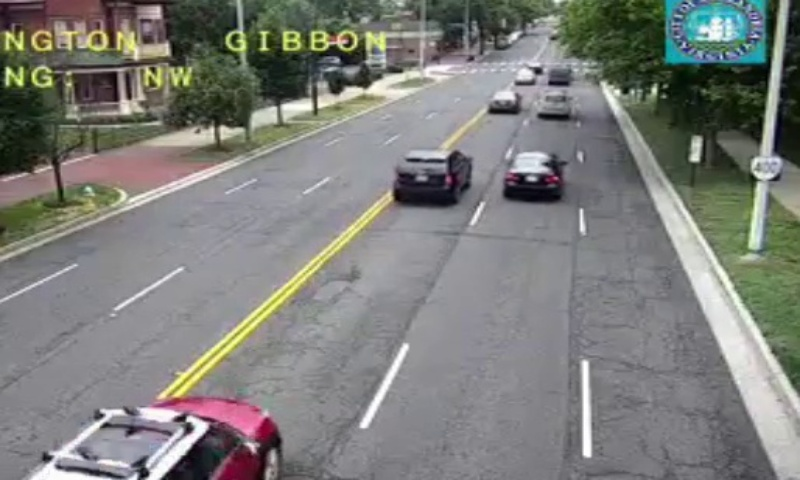car: (393, 149, 471, 201), (504, 152, 563, 194), (537, 91, 571, 117), (487, 90, 521, 113)
